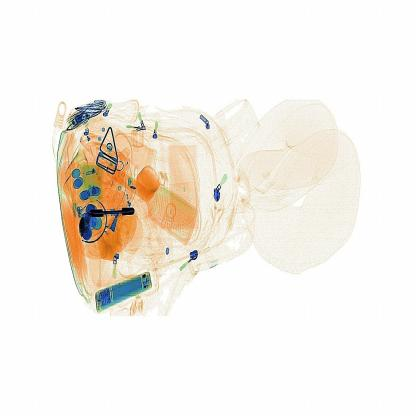knife: (86, 199, 139, 224)
